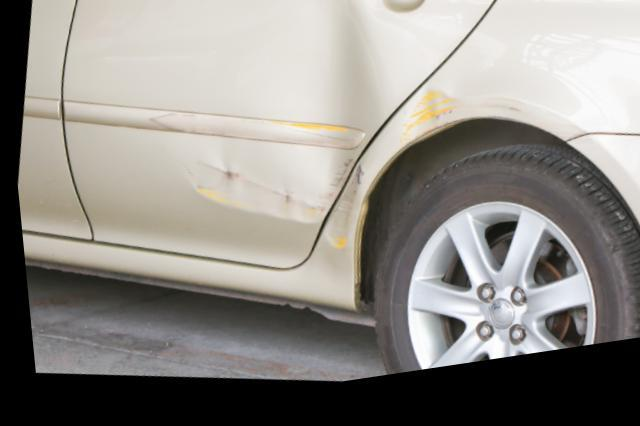dent: (158, 0, 385, 234), (320, 173, 357, 257), (397, 101, 452, 155)
